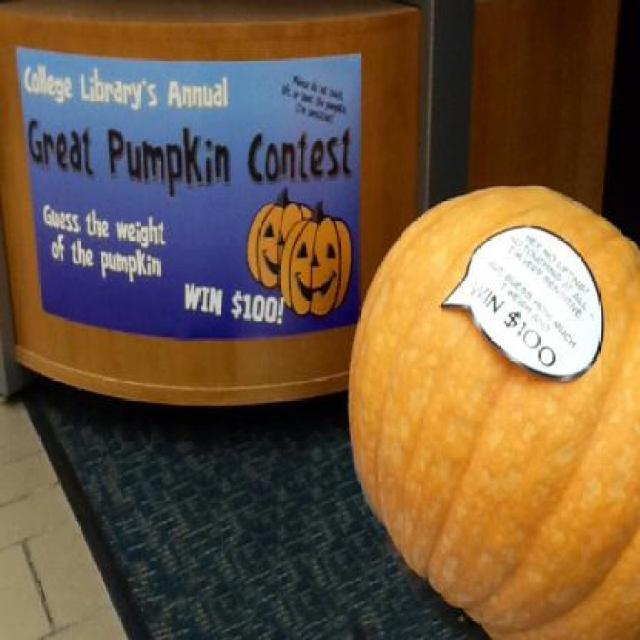Pumpkin: (348, 182, 640, 640), (277, 202, 351, 318), (247, 189, 310, 289)
